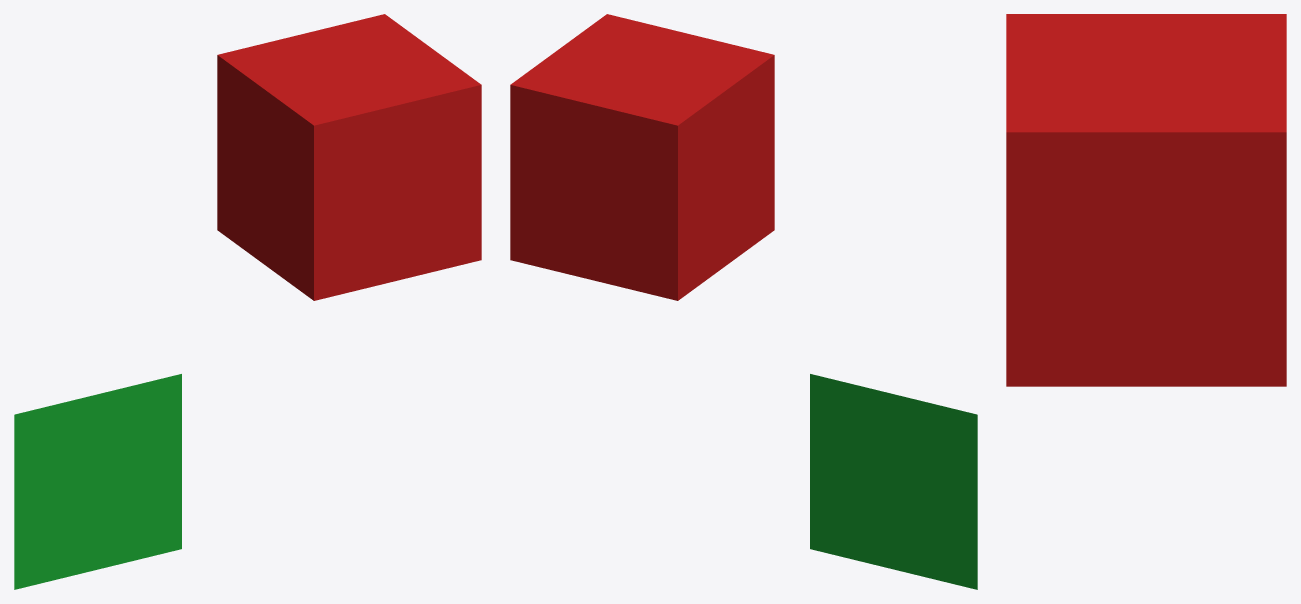
File: blender_cubo.obj
3 views of the same model, side by side, from view 1: azimuth 30°, elevation 25°; view 2: azimuth 150°, elevation 25°; view 3: azimuth 270°, elevation 25° (orthographic). The views are drawn at different scales.
Visible parts, largest first — view 1: Cube, Plane; view 2: Cube, Plane; view 3: Cube.
Part boxes in pixels (bbox=[...]): Cube: bbox=[217, 14, 481, 300]; Plane: bbox=[14, 374, 181, 589]; Cube: bbox=[510, 14, 774, 300]; Plane: bbox=[810, 374, 977, 589]; Cube: bbox=[1006, 14, 1286, 386].
Size of the model in its own units: 500 by 500 by 200.
